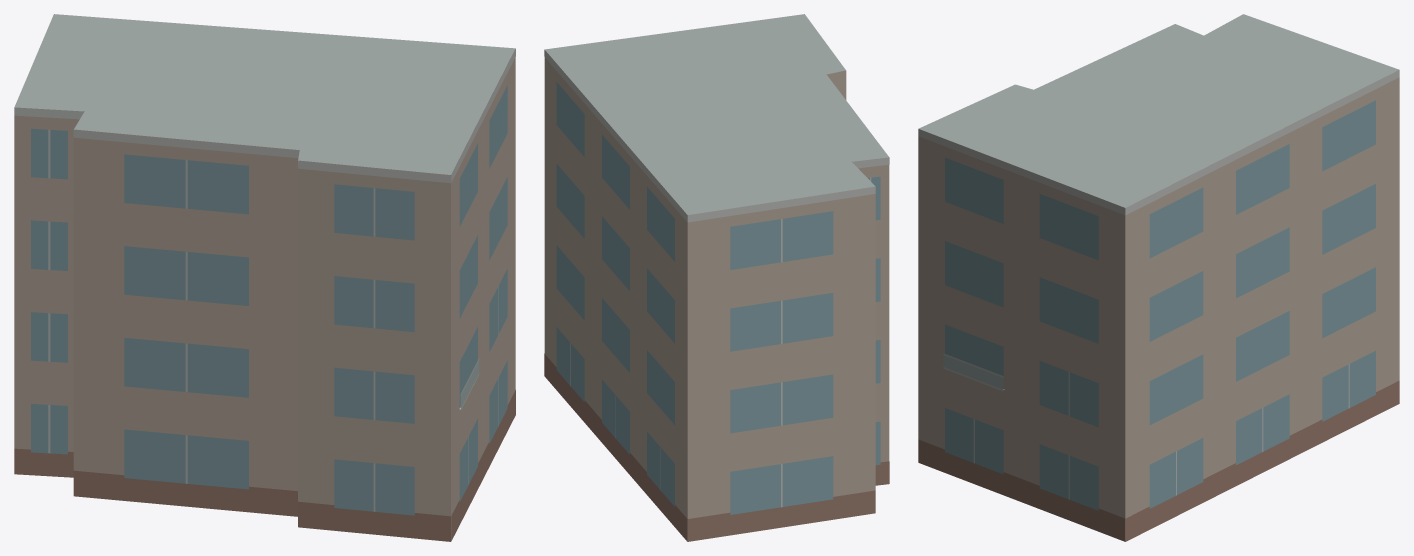
The model's file is survey-upis-32623064.glb.
3 renders of one model, left to right at view 1: azimuth 30°, elevation 25°; view 2: azimuth 150°, elevation 25°; view 3: azimuth 270°, elevation 25°, orthographic. The views are drawn at different scales.
Visible parts, largest first — view 1: survey-upis-32623064.tmp; view 2: survey-upis-32623064.tmp; view 3: survey-upis-32623064.tmp.
Boxes of the visible parts, left/top/right/bottom form: survey-upis-32623064.tmp: left=14, top=14, right=515, bottom=541; survey-upis-32623064.tmp: left=544, top=14, right=889, bottom=541; survey-upis-32623064.tmp: left=918, top=14, right=1399, bottom=541.
Size of the model in its own units: 13.65 by 10.95 by 14.31.
